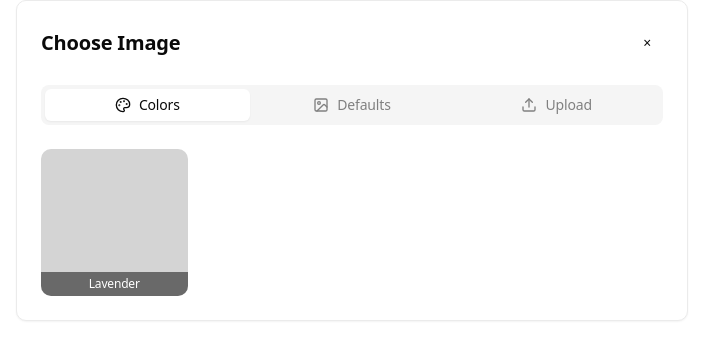
Test: ImagePicker Upload Functionality › Custom image upload › should upload custom image using secure upload
Click the tab "Upload" at point(557, 105), box 454,89 -> 659,121
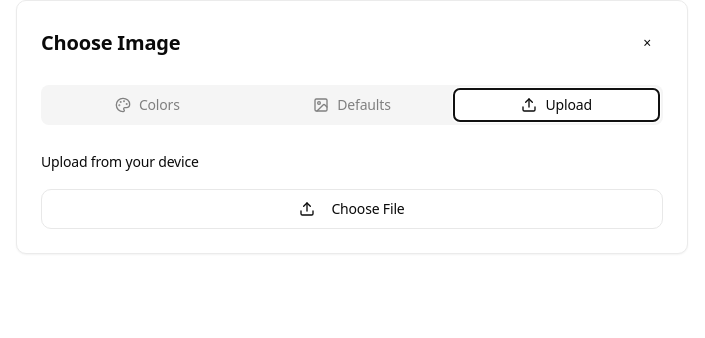
Expected: the file field labelled "Upload from your device" is shown, 41,152 -> 199,171
